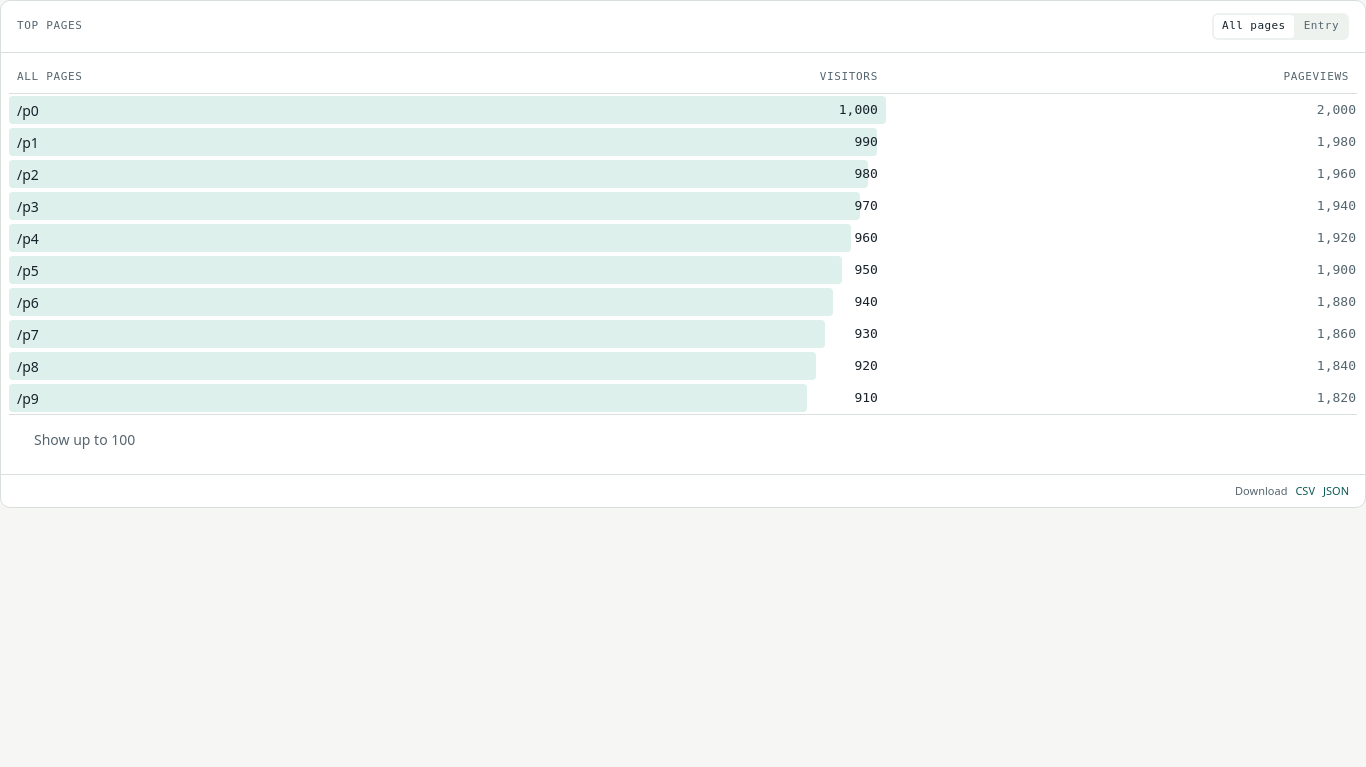
it: DimensionCard › puts the open tab in the URL and goes back to ten rows with it
Expected: the text "/p0" is shown, [17,100,39,120]
Click the button "Show up to 100" at x=85, y=440, box [21,423,148,458]
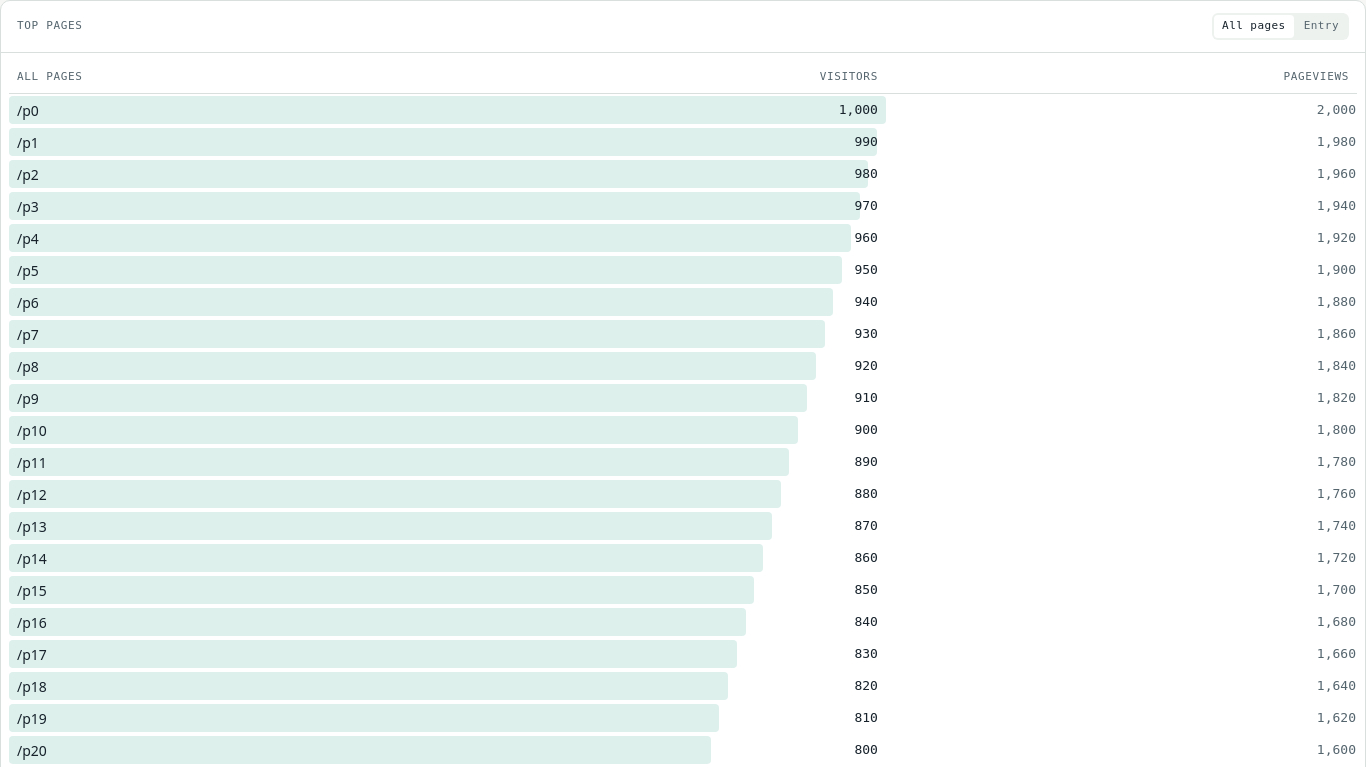
Now the text "/p20" is shown, box [17,740,47,760]
Click the tab "Entry" at x=1321, y=26, box [1296,15,1347,38]
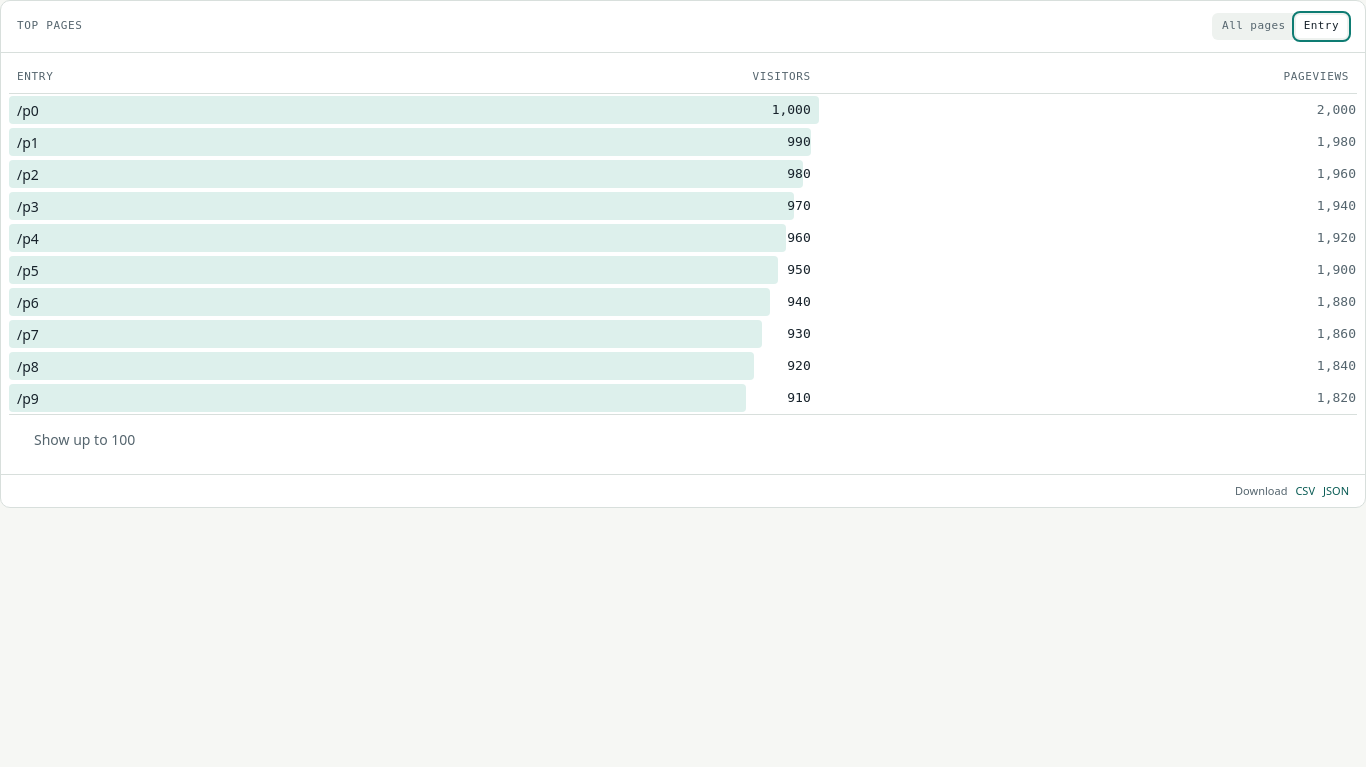
Now the button "/p20" is gone
Now the button "Show up to 100" is shown, box [21,423,148,458]
